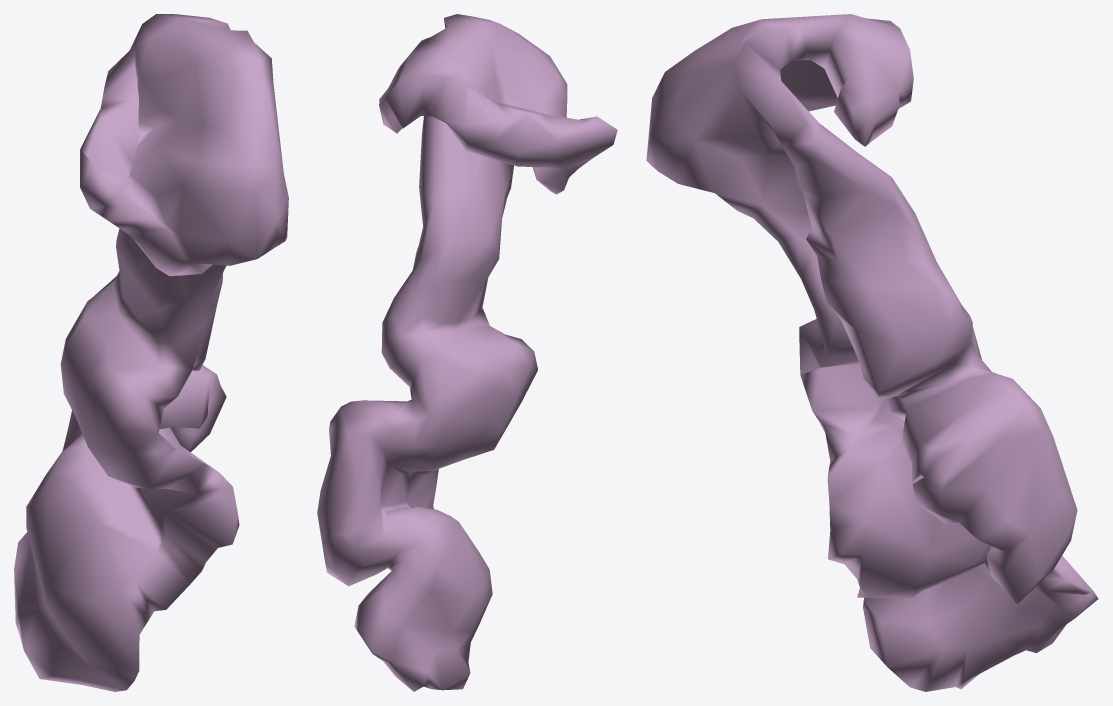
3 renders of one model, left to right at view 1: azimuth 30°, elevation 25°; view 2: azimuth 150°, elevation 25°; view 3: azimuth 270°, elevation 25°, orthographic. The views are drawn at different scales.
Parts seen in each view (by area): view 1: 左侧额上沟; view 2: 左侧额上沟; view 3: 左侧额上沟.
Boxes of the visible parts, x1,y1,x2,y2 form: 左侧额上沟: (14, 14, 288, 691); 左侧额上沟: (317, 14, 617, 691); 左侧额上沟: (646, 14, 1098, 691).
Size of the model in its own units: 0.0359 by 0.0992 by 0.0583.
